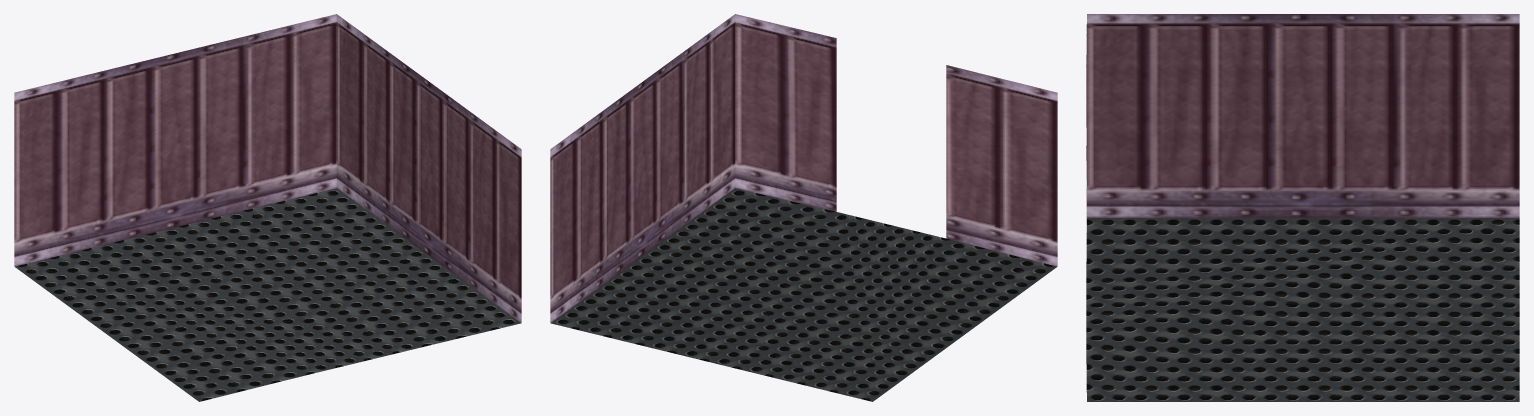
The model's file is cell.glb.
The picture shows the model from 3 angles, left to right: view 1: azimuth 30°, elevation 25°; view 2: azimuth 150°, elevation 25°; view 3: azimuth 270°, elevation 25°; orthographic projection. The views are drawn at different scales.
Visible parts, largest first — view 1: cell; view 2: cell; view 3: cell.
Part boxes in pixels (<box>): cell: <box>14,14,521,401</box>; cell: <box>550,14,1057,401</box>; cell: <box>1086,14,1519,401</box>.
Size of the model in its own units: 1483 by 766 by 1475.
3 materials, 3 textured.
